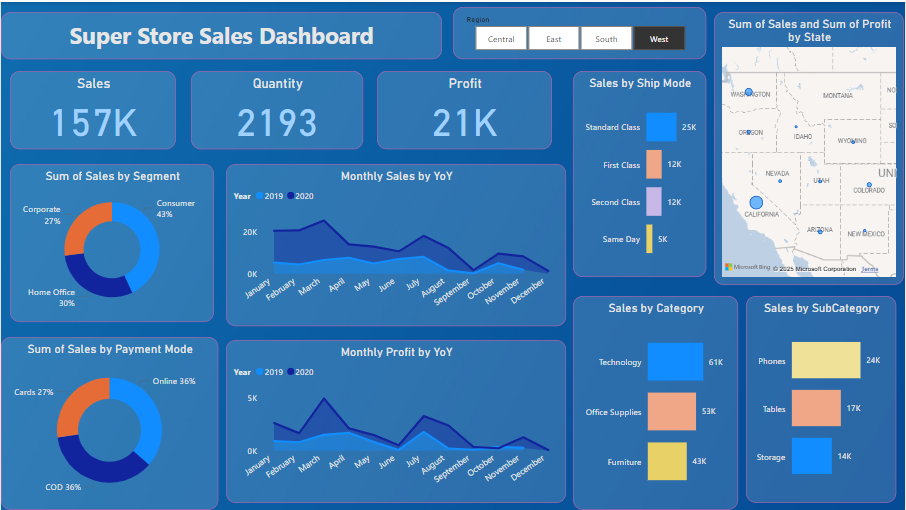

The page's visual inventory and layout, read from the dashboard file:
{"tool":"powerbi","page":{"name":"Page 1","canvas":[1280,720],"ordinal":0},"visuals":[{"type":"clusteredBarChart","title":"Sales by Category","fields":{"Category":["SuperStore_Sales_Dataset.Category"],"Y":["Sum(SuperStore_Sales_Dataset.Sales)"]},"box":[810.7,416.7,233.9,303.3],"z":0},{"type":"clusteredBarChart","title":"Sales by SubCategory","fields":{"Y":["Sum(SuperStore_Sales_Dataset.Sales)"],"Category":["SuperStore_Sales_Dataset.Sub-Category"]},"box":[1055.9,416.7,212.6,293.4],"z":1000},{"type":"clusteredBarChart","title":"Sales by Ship Mode","fields":{"Y":["Sum(SuperStore_Sales_Dataset.Sales)"],"Category":["SuperStore_Sales_Dataset.Ship Mode"]},"box":[810.7,97.8,188.5,292],"z":2000},{"type":"stackedAreaChart","title":"Monthly Sales by YoY","fields":{"Y":["Sum(SuperStore_Sales_Dataset.Sales)"],"Category":["SuperStore_Sales_Dataset.Order Date.Variation.Date Hierarchy.Month"],"Series":["SuperStore_Sales_Dataset.Order Date.Variation.Date Hierarchy.Year"]},"box":[318.9,229.6,481.9,229.6],"z":3000},{"type":"stackedAreaChart","title":"Monthly Profit by YoY","fields":{"Category":["SuperStore_Sales_Dataset.Order Date.Variation.Date Hierarchy.Month"],"Series":["SuperStore_Sales_Dataset.Order Date.Variation.Date Hierarchy.Year"],"Y":["Sum(SuperStore_Sales_Dataset.Profit)"]},"box":[318.9,479.1,481.9,231],"z":4000},{"type":"map","fields":{"Category":["SuperStore_Sales_Dataset.State"],"Size":["Sum(SuperStore_Sales_Dataset.Sales)"]},"box":[1010.6,14.2,269.3,386.9],"z":5000},{"type":"donutChart","fields":{"Category":["SuperStore_Sales_Dataset.Segment"],"Y":["Sum(SuperStore_Sales_Dataset.Sales)"]},"box":[12.8,229.6,289.1,223.9],"z":6000},{"type":"donutChart","fields":{"Y":["Sum(SuperStore_Sales_Dataset.Sales)"],"Category":["SuperStore_Sales_Dataset.Payment Mode"]},"box":[0,474.8,307.6,245.2],"z":7000},{"type":"slicer","fields":{"Values":["SuperStore_Sales_Dataset.Region"]},"box":[640.6,7.1,358.6,73.7],"z":8000},{"type":"textbox","box":[0,14.2,625,66.6],"z":9000},{"type":"card","title":"Sales","fields":{"Values":["Sum(SuperStore_Sales_Dataset.Sales)"]},"box":[12.8,97.8,235.3,110.6],"z":10000},{"type":"card","title":"Quantity","fields":{"Values":["Sum(SuperStore_Sales_Dataset.Quantity)"]},"box":[269.3,97.8,243.8,110.6],"z":11000},{"type":"card","title":"Profit","fields":{"Values":["Sum(SuperStore_Sales_Dataset.Profit)"]},"box":[532.9,97.8,248,110.6],"z":12000}]}

Visuals, with their boxes in screenshot pixels (x1, y1, x2, y2), scaled from the page's 1280x720 canvas onto the 906x510 screenshot:
"Sales by Category" clusteredBarChart: <region>574, 295, 739, 509</region>
"Sales by SubCategory" clusteredBarChart: <region>747, 295, 898, 503</region>
"Sales by Ship Mode" clusteredBarChart: <region>574, 69, 707, 276</region>
"Monthly Sales by YoY" stackedAreaChart: <region>226, 163, 567, 325</region>
"Monthly Profit by YoY" stackedAreaChart: <region>226, 339, 567, 503</region>
map - SuperStore_Sales_Dataset.State x Sum(SuperStore_Sales_Dataset.Sales): <region>715, 10, 905, 284</region>
donutChart - SuperStore_Sales_Dataset.Segment x Sum(SuperStore_Sales_Dataset.Sales): <region>9, 163, 214, 321</region>
donutChart - Sum(SuperStore_Sales_Dataset.Sales) x SuperStore_Sales_Dataset.Payment Mode: <region>0, 336, 218, 509</region>
slicer - SuperStore_Sales_Dataset.Region: <region>453, 5, 707, 57</region>
textbox: <region>0, 10, 442, 57</region>
"Sales" card: <region>9, 69, 176, 148</region>
"Quantity" card: <region>191, 69, 363, 148</region>
"Profit" card: <region>377, 69, 553, 148</region>
